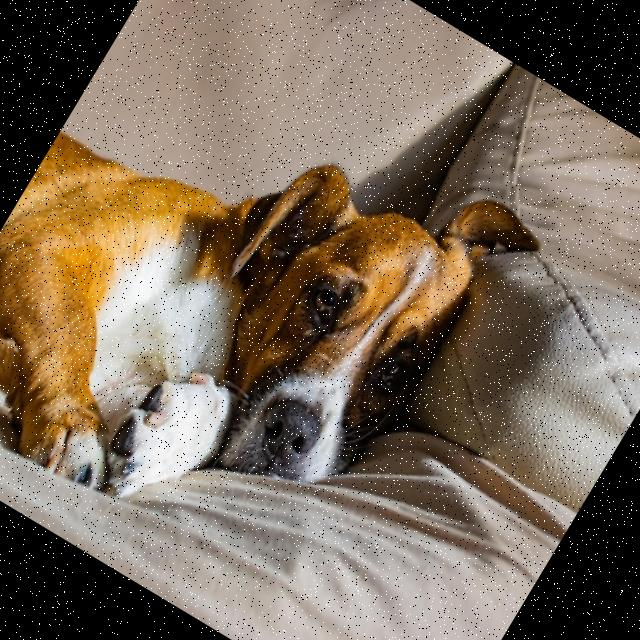Dog: (0, 0, 548, 628)
